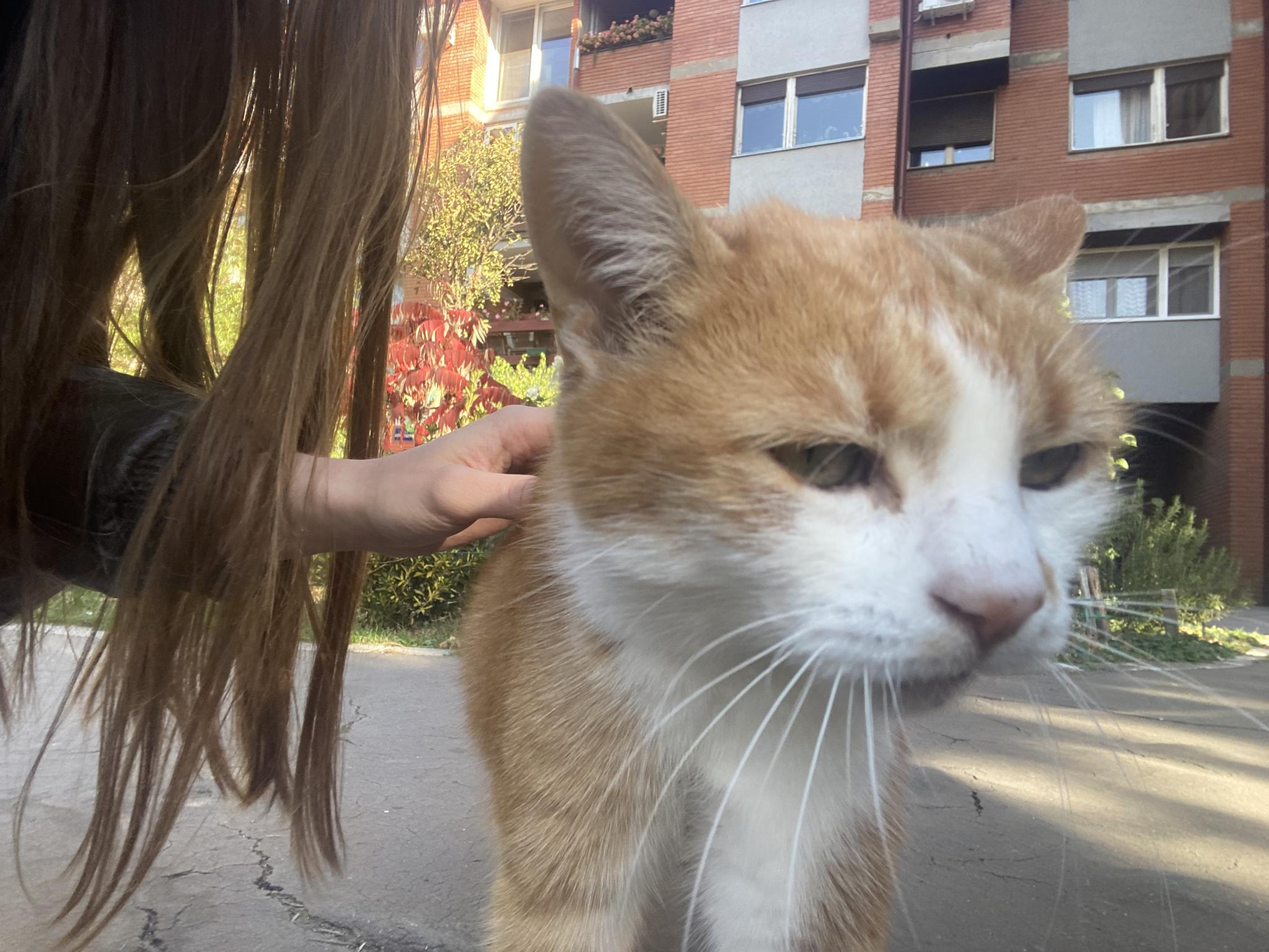macka: (459, 85, 1127, 952)
